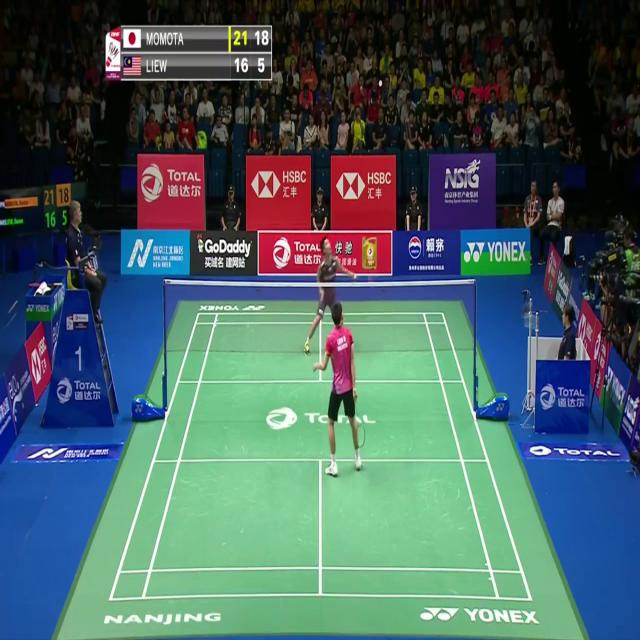Shuttlecock: (377, 78, 384, 89)
